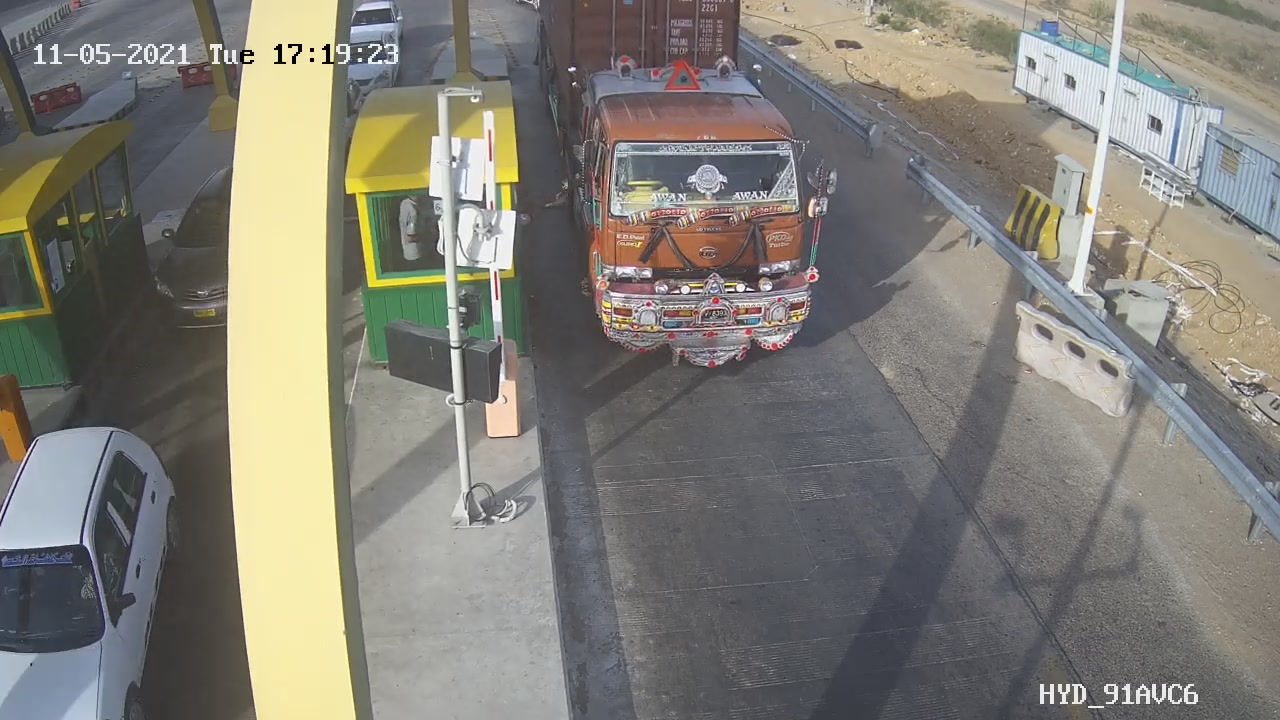F6: (521, 1, 863, 388)
